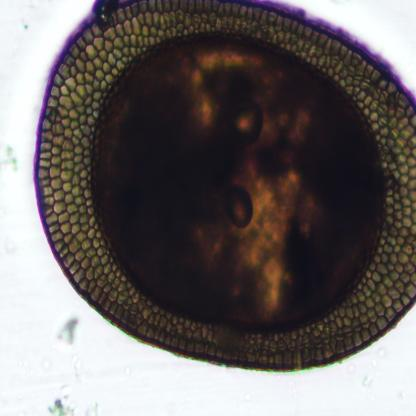Background material: (52, 315, 81, 346), (46, 394, 76, 415), (0, 141, 19, 174), (362, 372, 374, 388)
